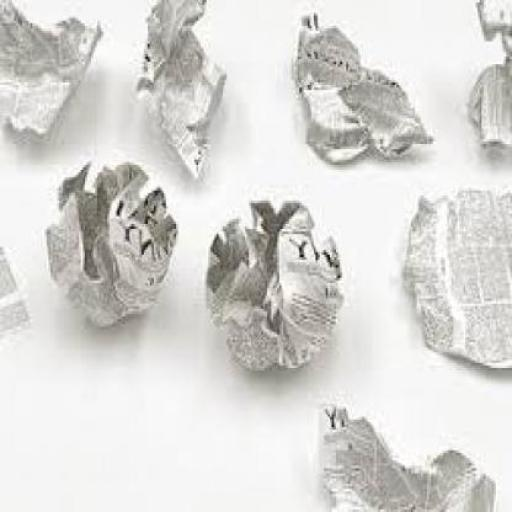paper: (202, 196, 342, 373), (42, 157, 176, 324), (289, 8, 431, 162), (401, 182, 510, 368), (318, 398, 494, 510), (131, 0, 225, 177), (0, 0, 101, 134), (457, 0, 510, 146), (0, 232, 33, 344)
